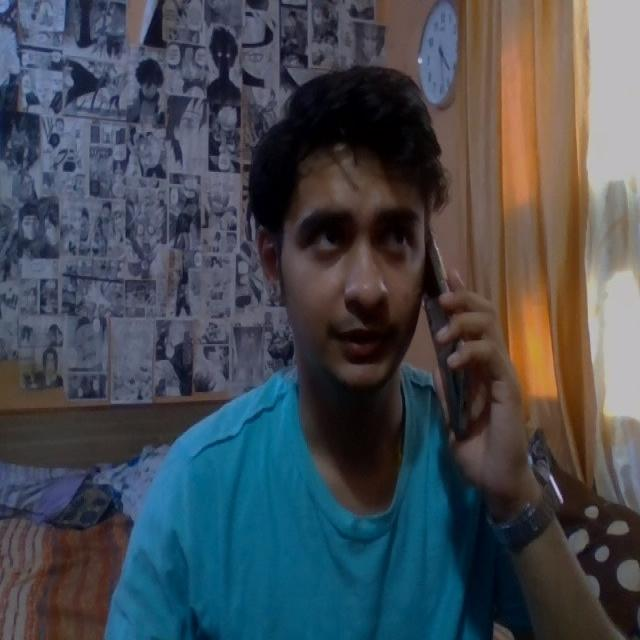oncall: (213, 37, 549, 494)
phone: (413, 219, 484, 439)
